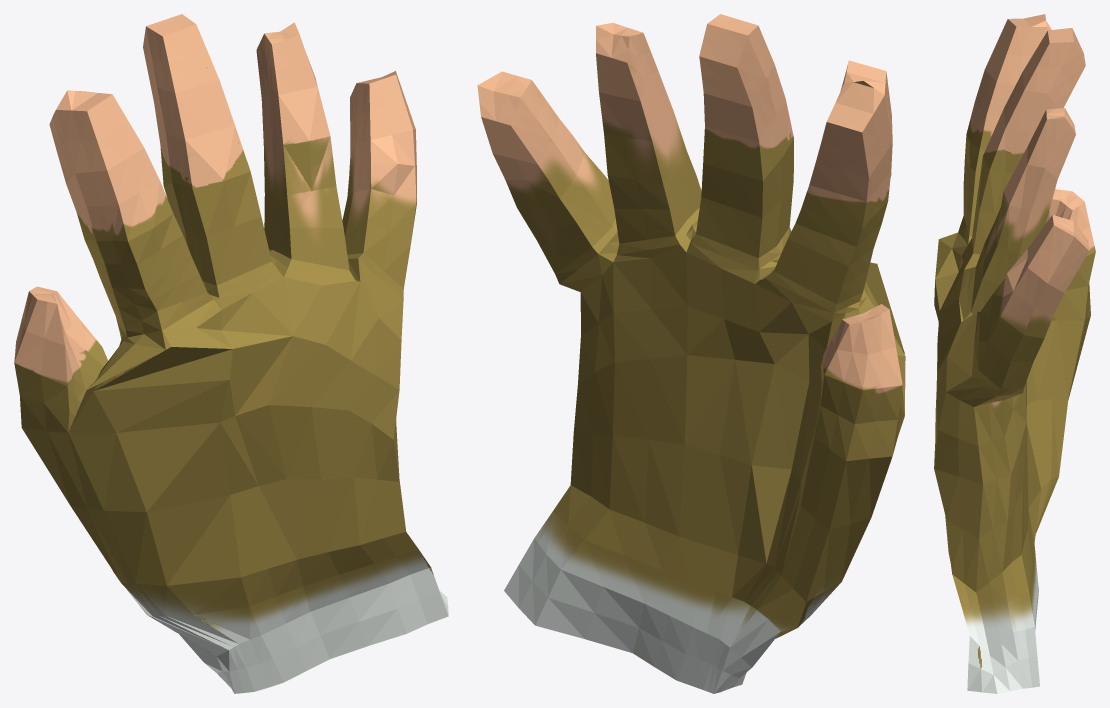
File: grip0011.obj
The picture shows the model from 3 angles, left to right: view 1: azimuth 30°, elevation 25°; view 2: azimuth 150°, elevation 25°; view 3: azimuth 270°, elevation 25°; orthographic projection. The views are drawn at different scales.
Parts seen in each view (by area): view 1: Hand; view 2: Hand; view 3: Hand.
Part boxes in pixels (x1=…): Hand: x1=14, y1=14, x2=448, y2=693; Hand: x1=477, y1=14, x2=905, y2=693; Hand: x1=934, y1=14, x2=1095, y2=693.
Size of the model in its own units: 3.1 by 4.85 by 1.2.
